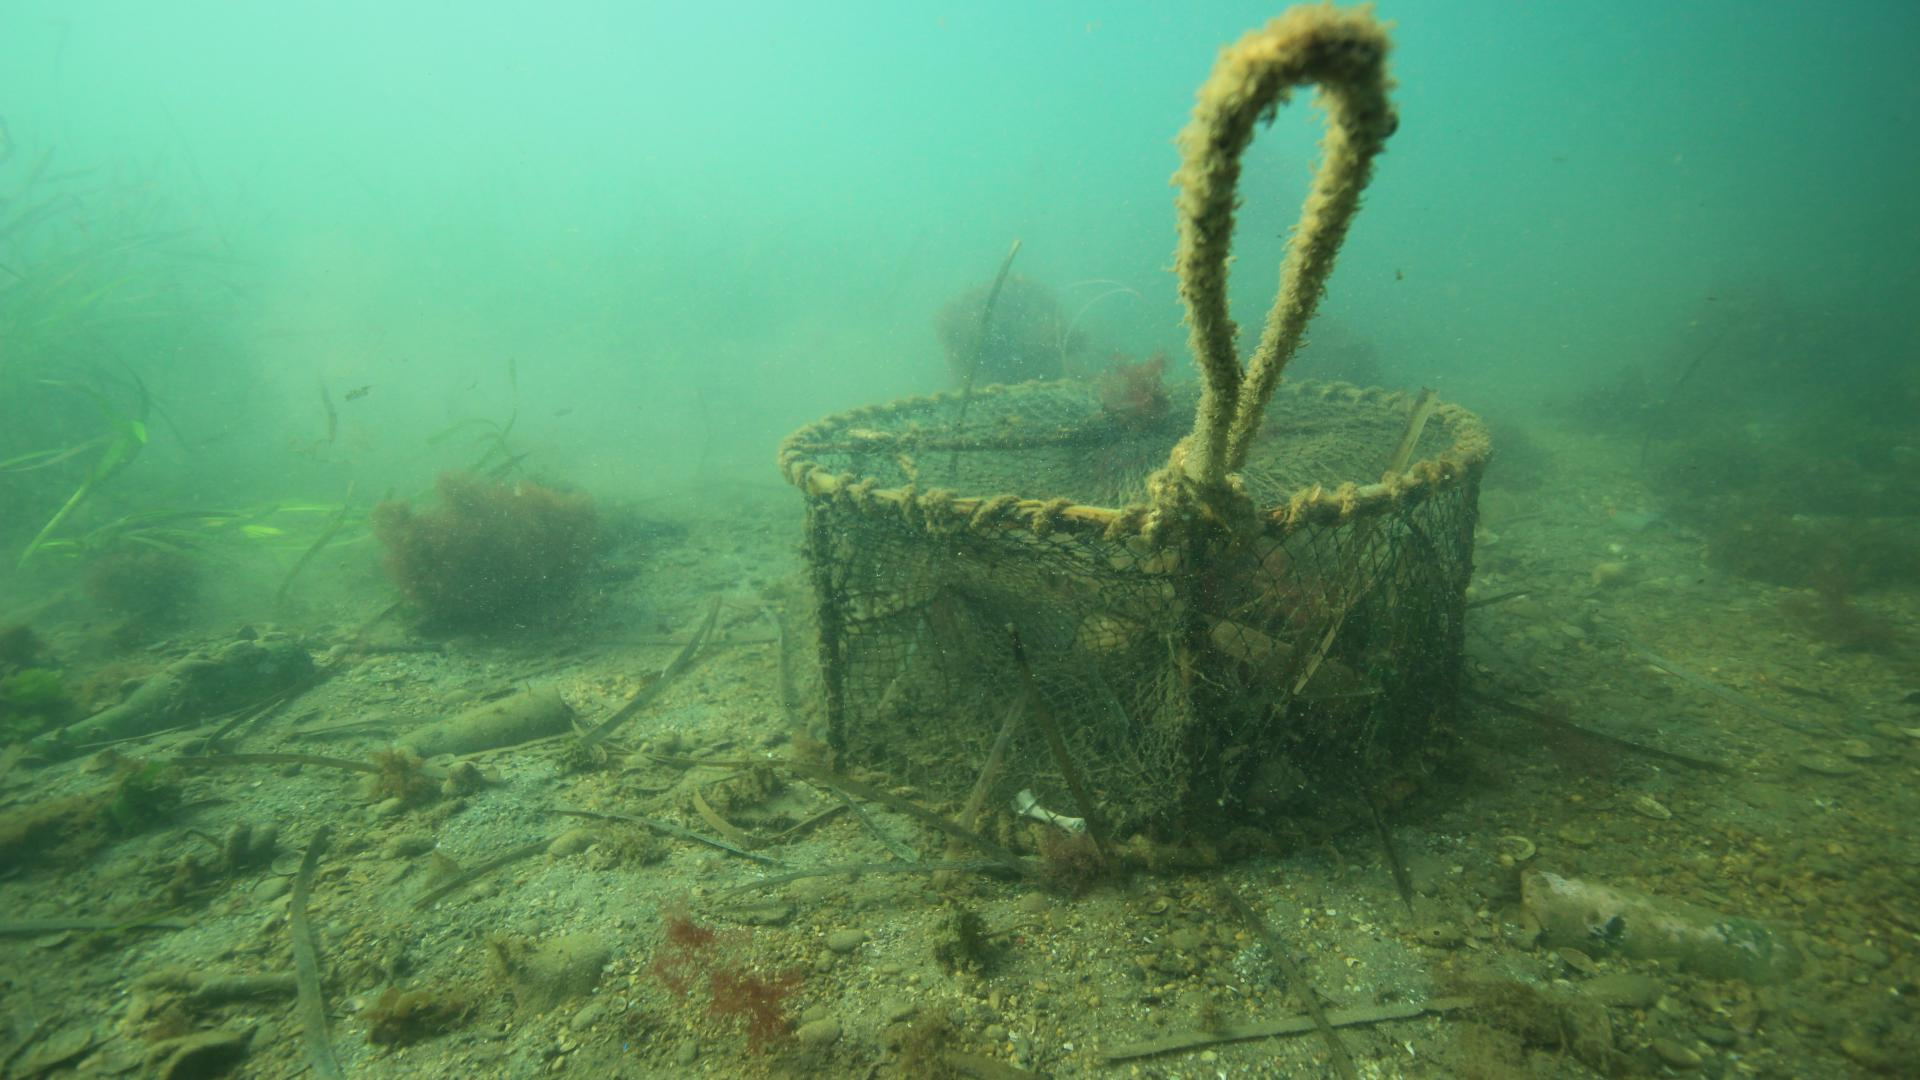circular fish trap: (778, 375, 1491, 873)
rope: (1174, 3, 1400, 485)
